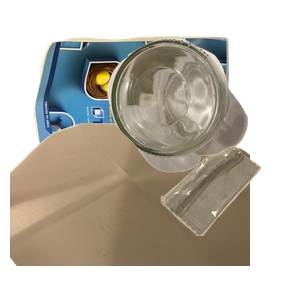glass: (105, 36, 300, 201)
paper: (31, 34, 252, 205)
plastic: (10, 120, 250, 300)
trash: (158, 144, 300, 300)
